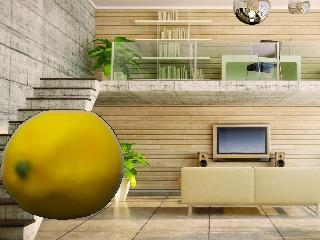lemon: (0, 106, 129, 224)
